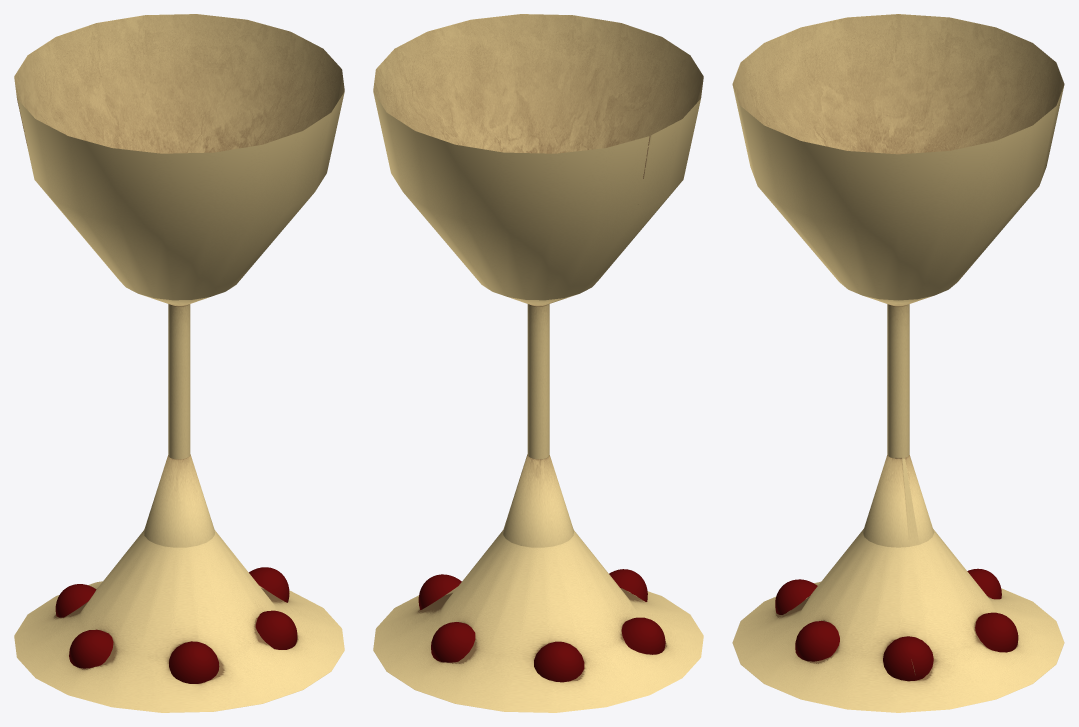
File: cup.glb
The picture shows the model from 3 angles, left to right: view 1: azimuth 30°, elevation 25°; view 2: azimuth 150°, elevation 25°; view 3: azimuth 270°, elevation 25°; orthographic projection.
Visible parts, largest first — view 1: Calice_CalicepSphere8; view 2: Calice_CalicepSphere8; view 3: Calice_CalicepSphere8.
Part boxes in pixels (<box>): Calice_CalicepSphere8: <box>14,14,344,712</box>; Calice_CalicepSphere8: <box>373,14,703,712</box>; Calice_CalicepSphere8: <box>732,14,1064,712</box>.
Bounding box in the file's own units: 1.35 × 2.5 × 1.35.
Materials: 1 (1 with a texture image).
